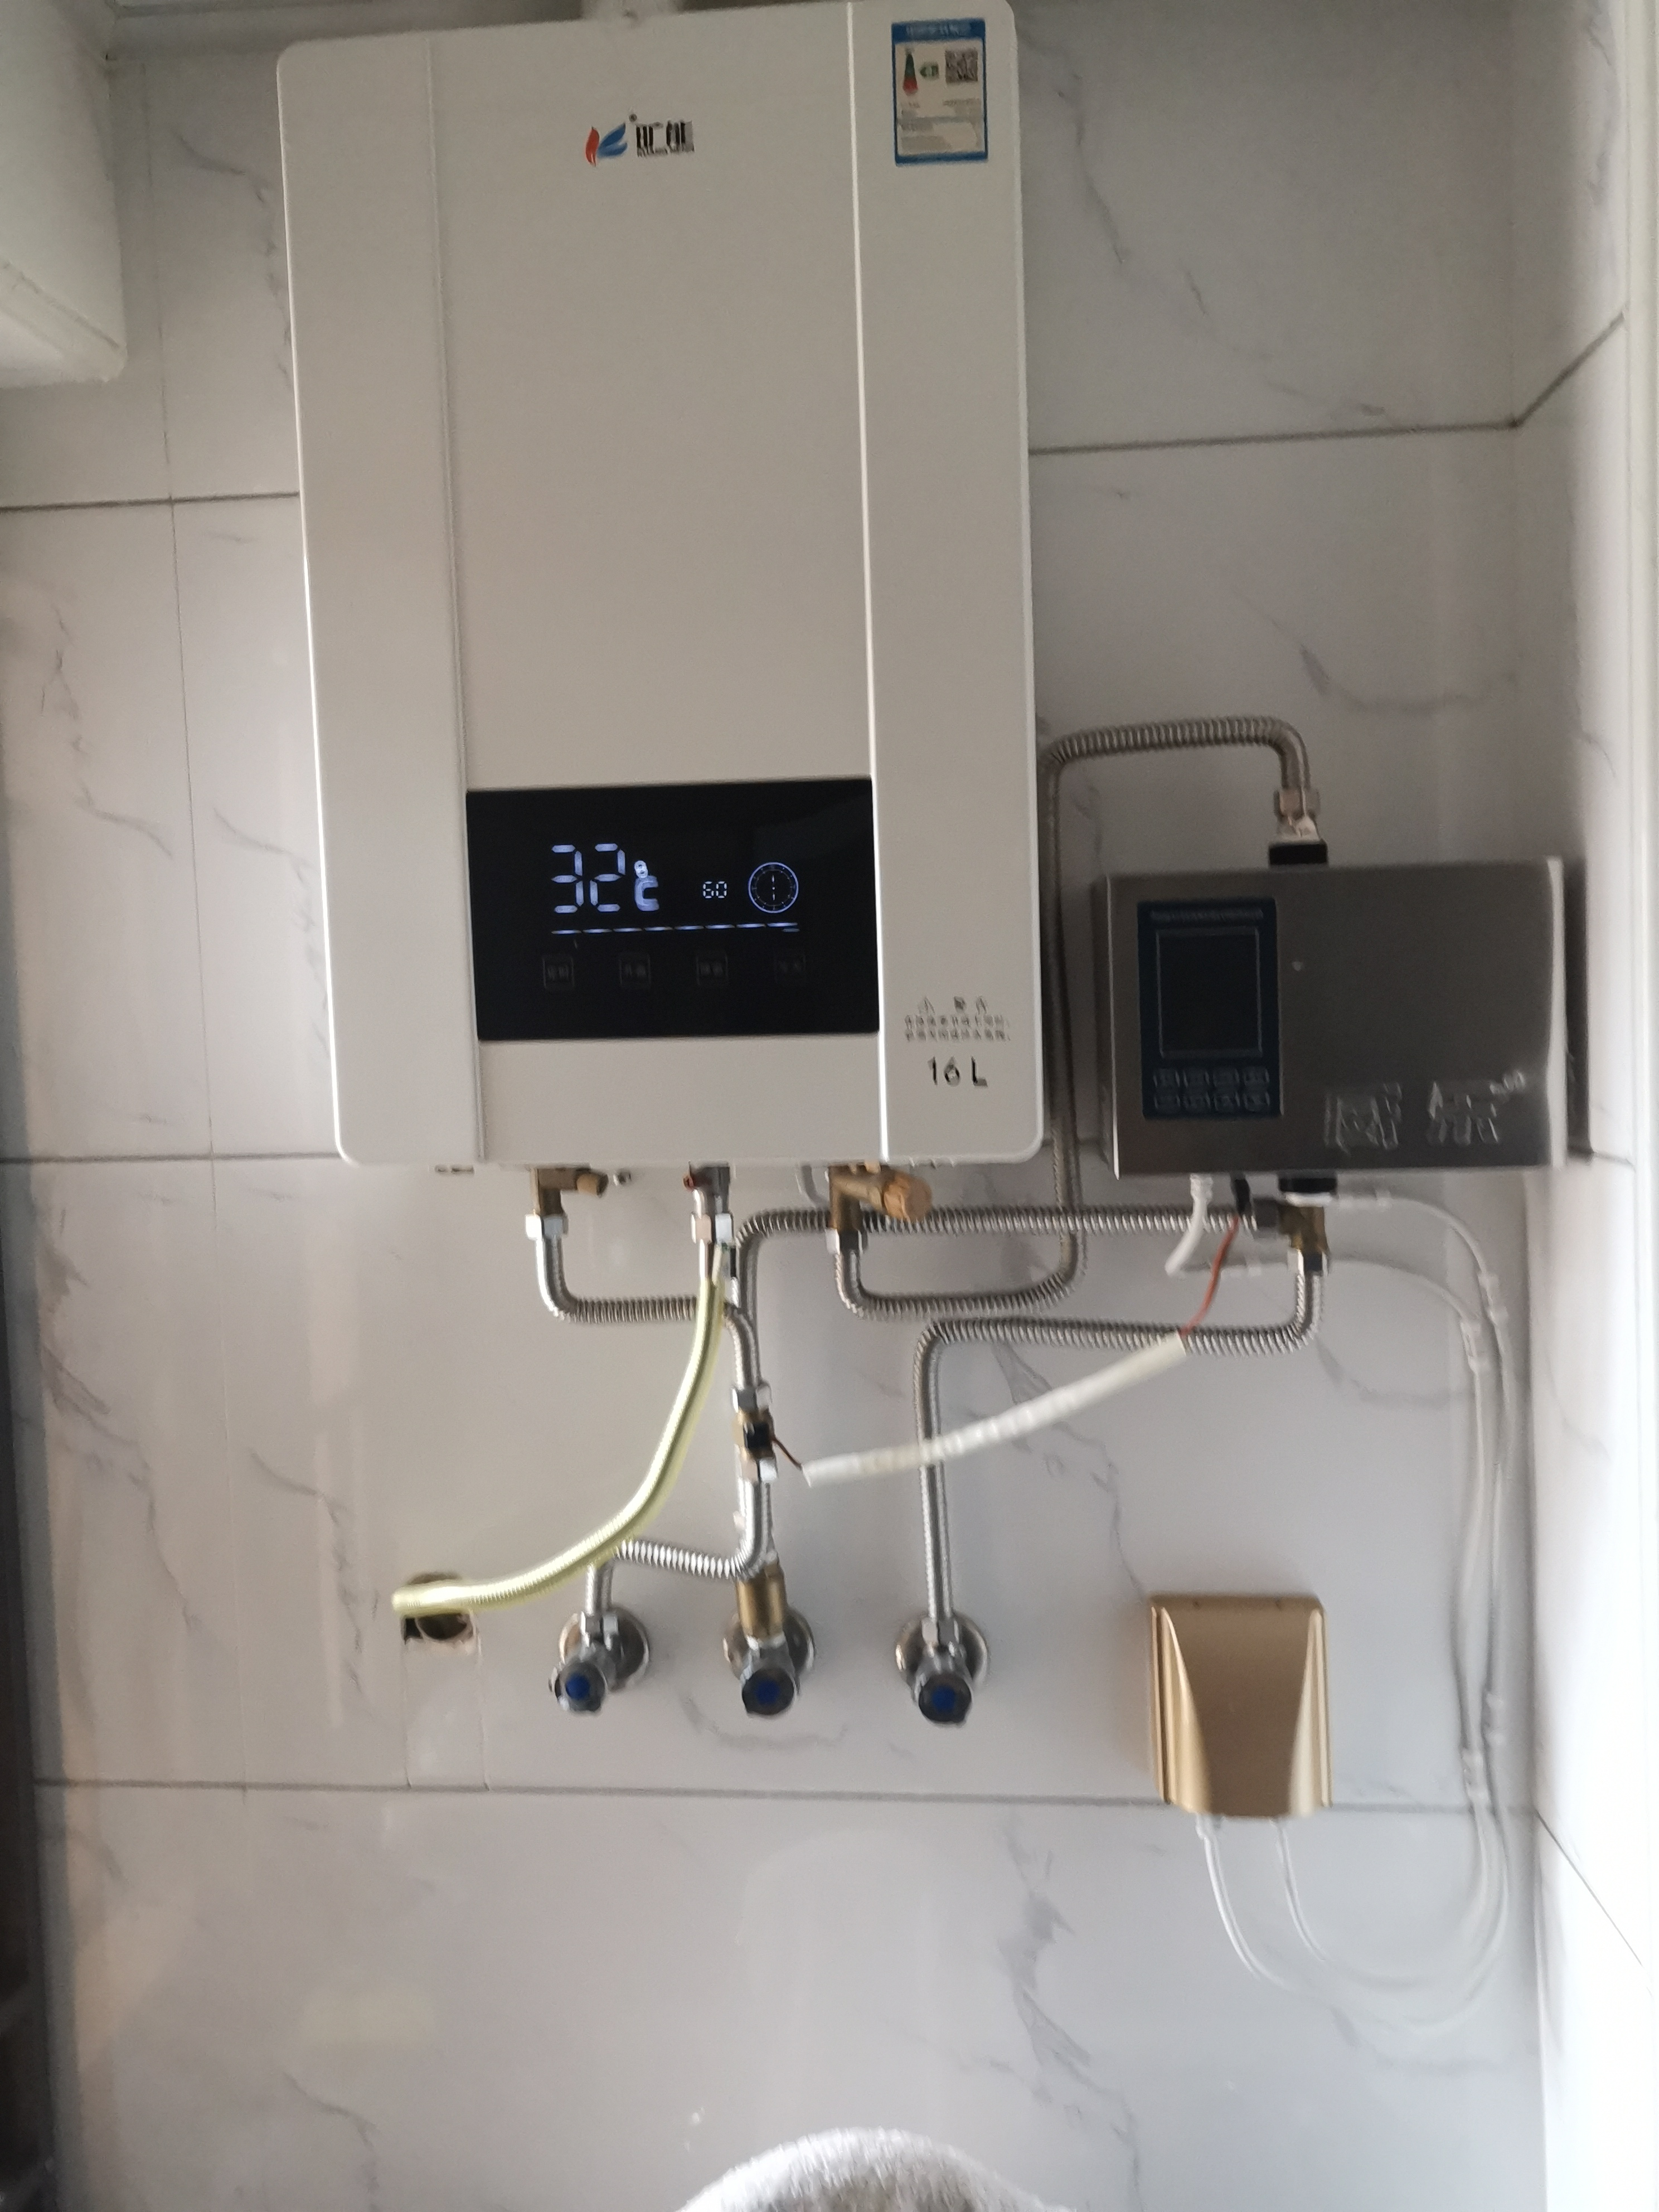loudou: (566, 115, 725, 171)
